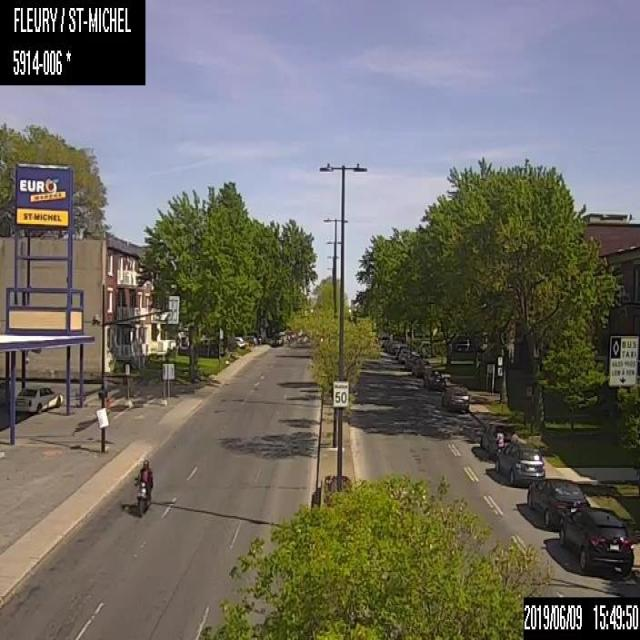vehicle: (559, 501, 635, 577), (525, 473, 591, 530), (495, 438, 546, 485), (477, 417, 517, 460), (14, 381, 64, 413), (134, 457, 152, 516), (439, 382, 468, 411), (422, 366, 450, 390), (412, 359, 431, 378), (404, 350, 420, 370), (397, 347, 410, 364)
